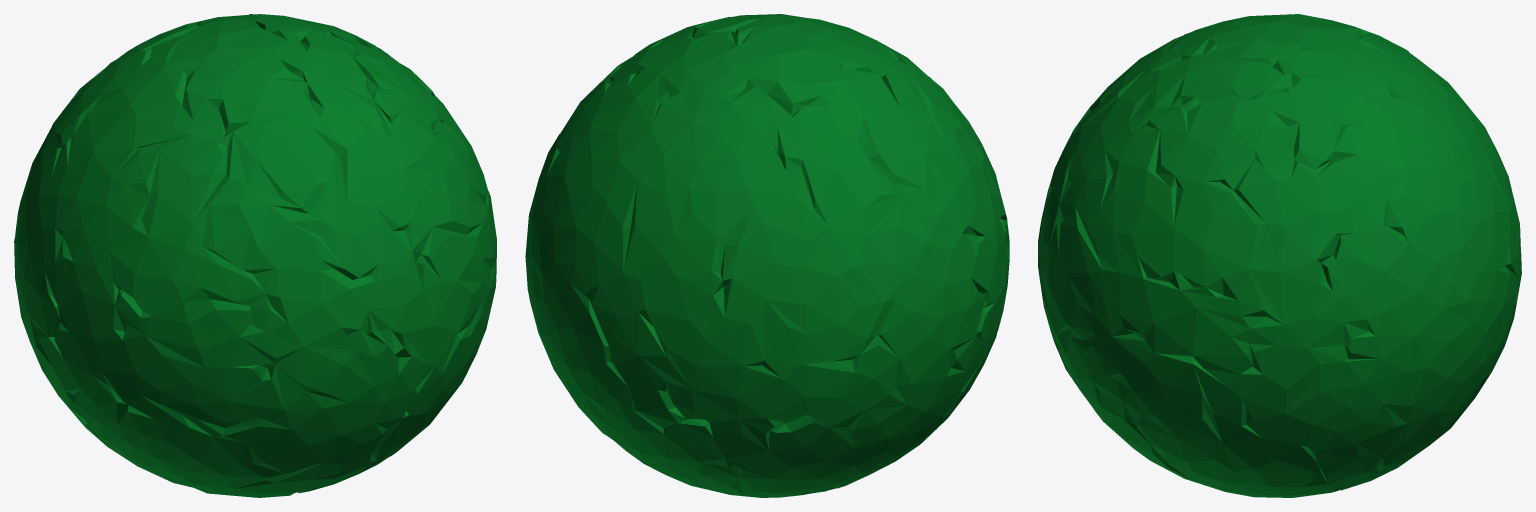
The model's file is Planet 10.FBX.
3 views of the same model, side by side, from view 1: azimuth 30°, elevation 25°; view 2: azimuth 150°, elevation 25°; view 3: azimuth 270°, elevation 25° (orthographic).
Parts seen in each view (by area): view 1: Planet 10; view 2: Planet 10; view 3: Planet 10.
Boxes of the visible parts, x1,y1,x2,y2 form: Planet 10: (14, 14, 496, 497); Planet 10: (525, 14, 1009, 497); Planet 10: (1038, 14, 1521, 497).
Bounding box in the file's own units: 219 × 219 × 219.
